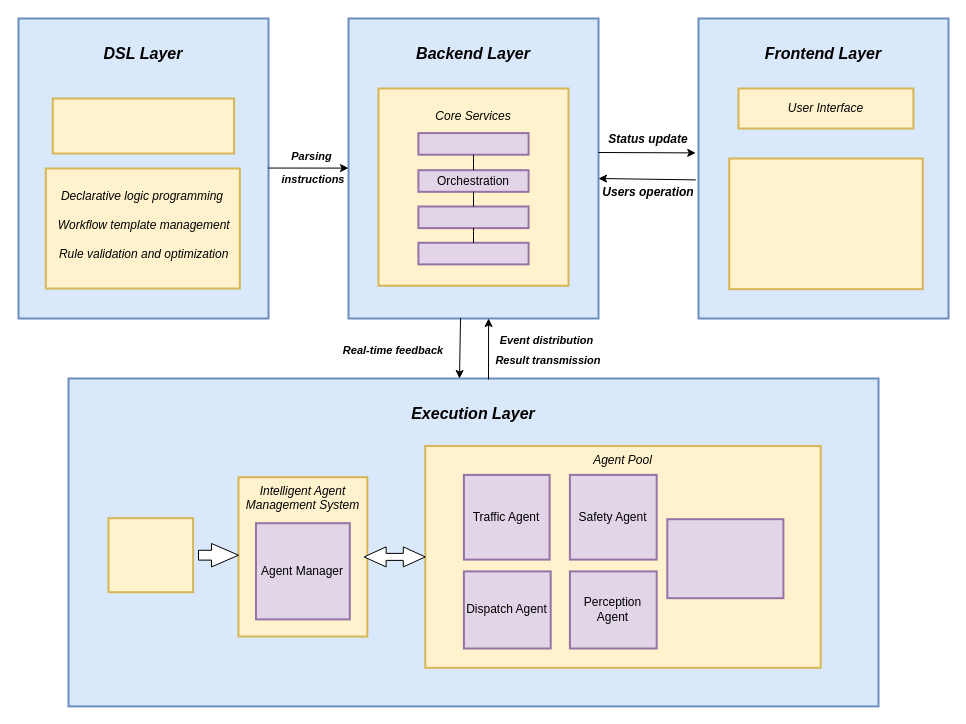
This 966x724 diagram has some shape labels left out. The centre of each missing label's shape, as x and y in pixels:
API Gateway: the point at 473,143
Declarative Logic Workflows: the point at 143,125
Event Bus: the point at 150,555
Extensible agent type: the point at 725,558
React UI (visual operation) WebSocket (real-time status push) Log/Alert Display: the point at 825,223
Scheduling: the point at 473,217
State Management: the point at 473,253
